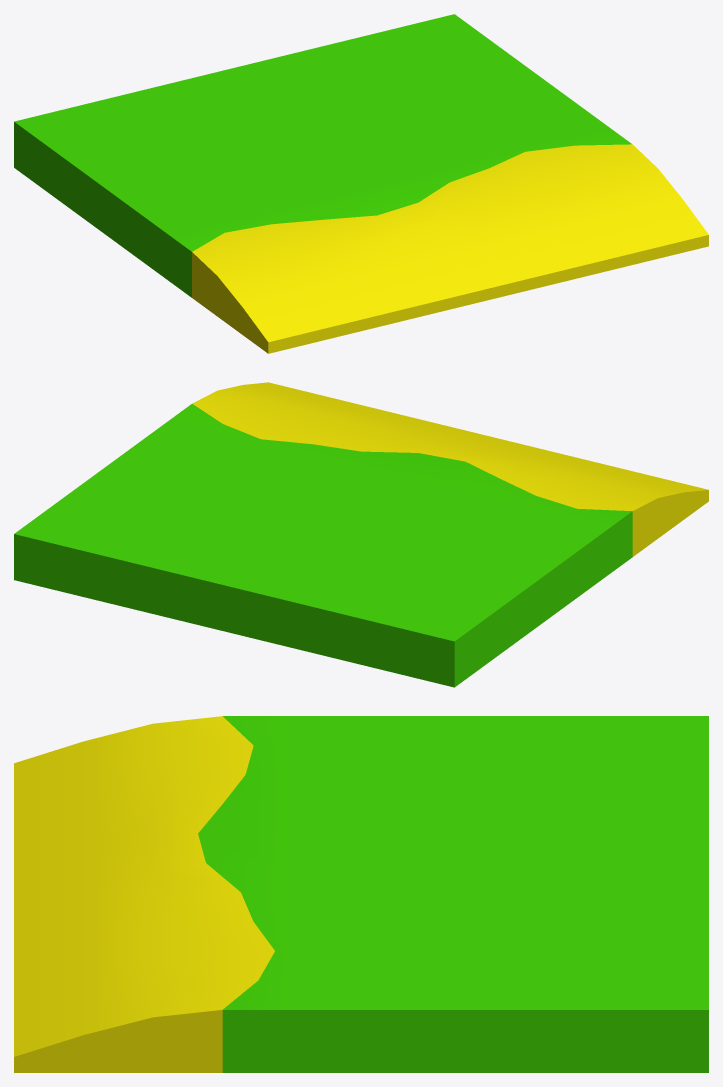
Rendered from island_side.fbx.
The picture shows the model from 3 angles, top to bottom: view 1: azimuth 30°, elevation 25°; view 2: azimuth 150°, elevation 25°; view 3: azimuth 270°, elevation 25°; orthographic projection. The views are drawn at different scales.
Visible parts, largest first — view 1: Box001; view 2: Box001; view 3: Box001.
Part boxes in pixels (<box>): Box001: <box>14,14,708,353</box>; Box001: <box>14,382,708,687</box>; Box001: <box>14,716,708,1072</box>.
Size of the model in its own units: 400 by 40 by 400.
